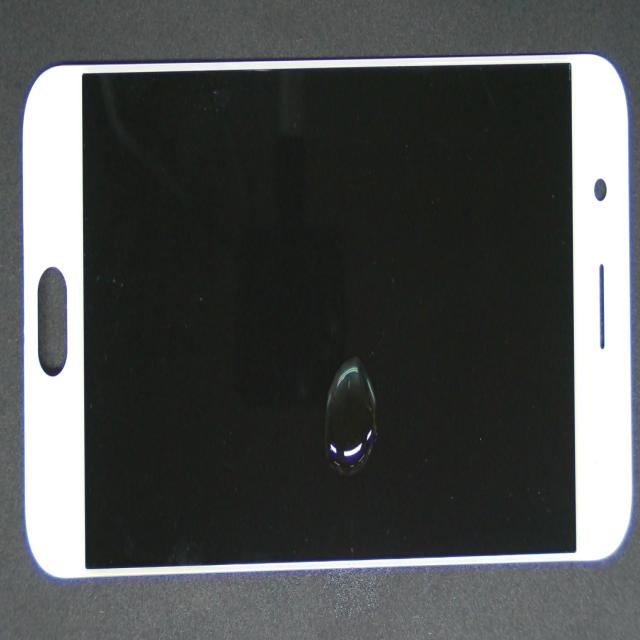oil: (307, 332, 404, 486)
